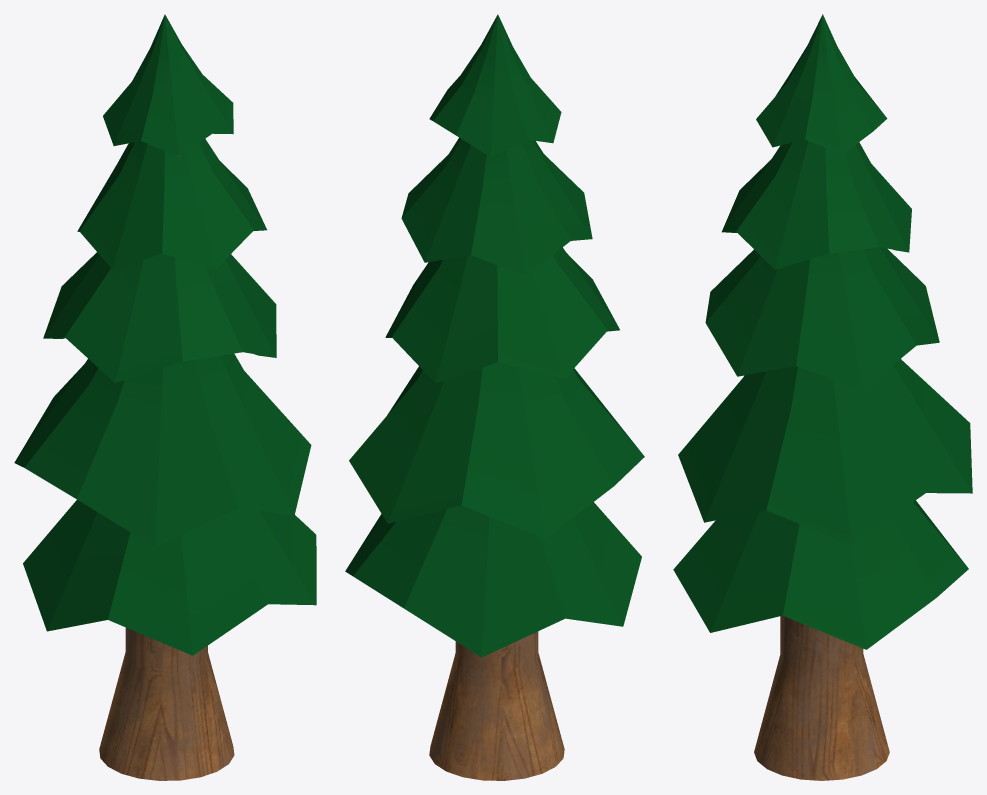
The model's file is PineTreeT.fbx.
3 views of the same model, side by side, from view 1: azimuth 30°, elevation 25°; view 2: azimuth 150°, elevation 25°; view 3: azimuth 270°, elevation 25° (orthographic).
Parts seen in each view (by area): view 1: PineTreeT; view 2: PineTreeT; view 3: PineTreeT.
Boxes of the visible parts, x1=… form: PineTreeT: x1=14, y1=14, x2=316, y2=780; PineTreeT: x1=345, y1=14, x2=644, y2=780; PineTreeT: x1=673, y1=14, x2=972, y2=780.
Size of the model in its own units: 2.42 by 6.58 by 2.42.
